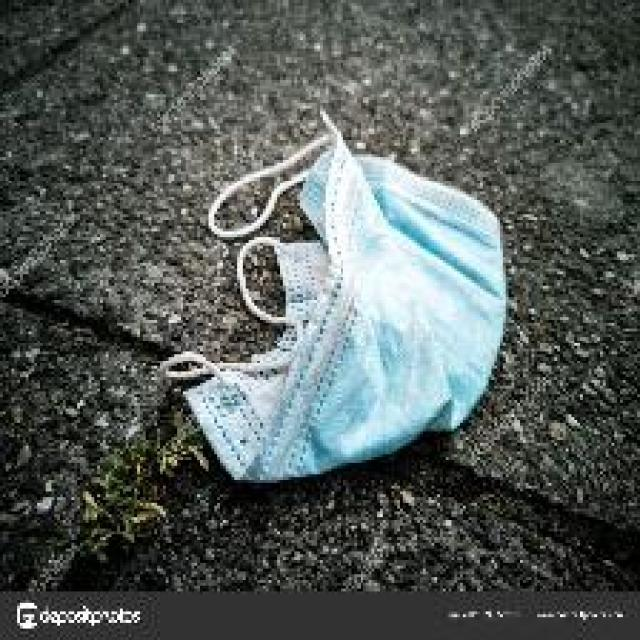Mask: (166, 113, 534, 502)
